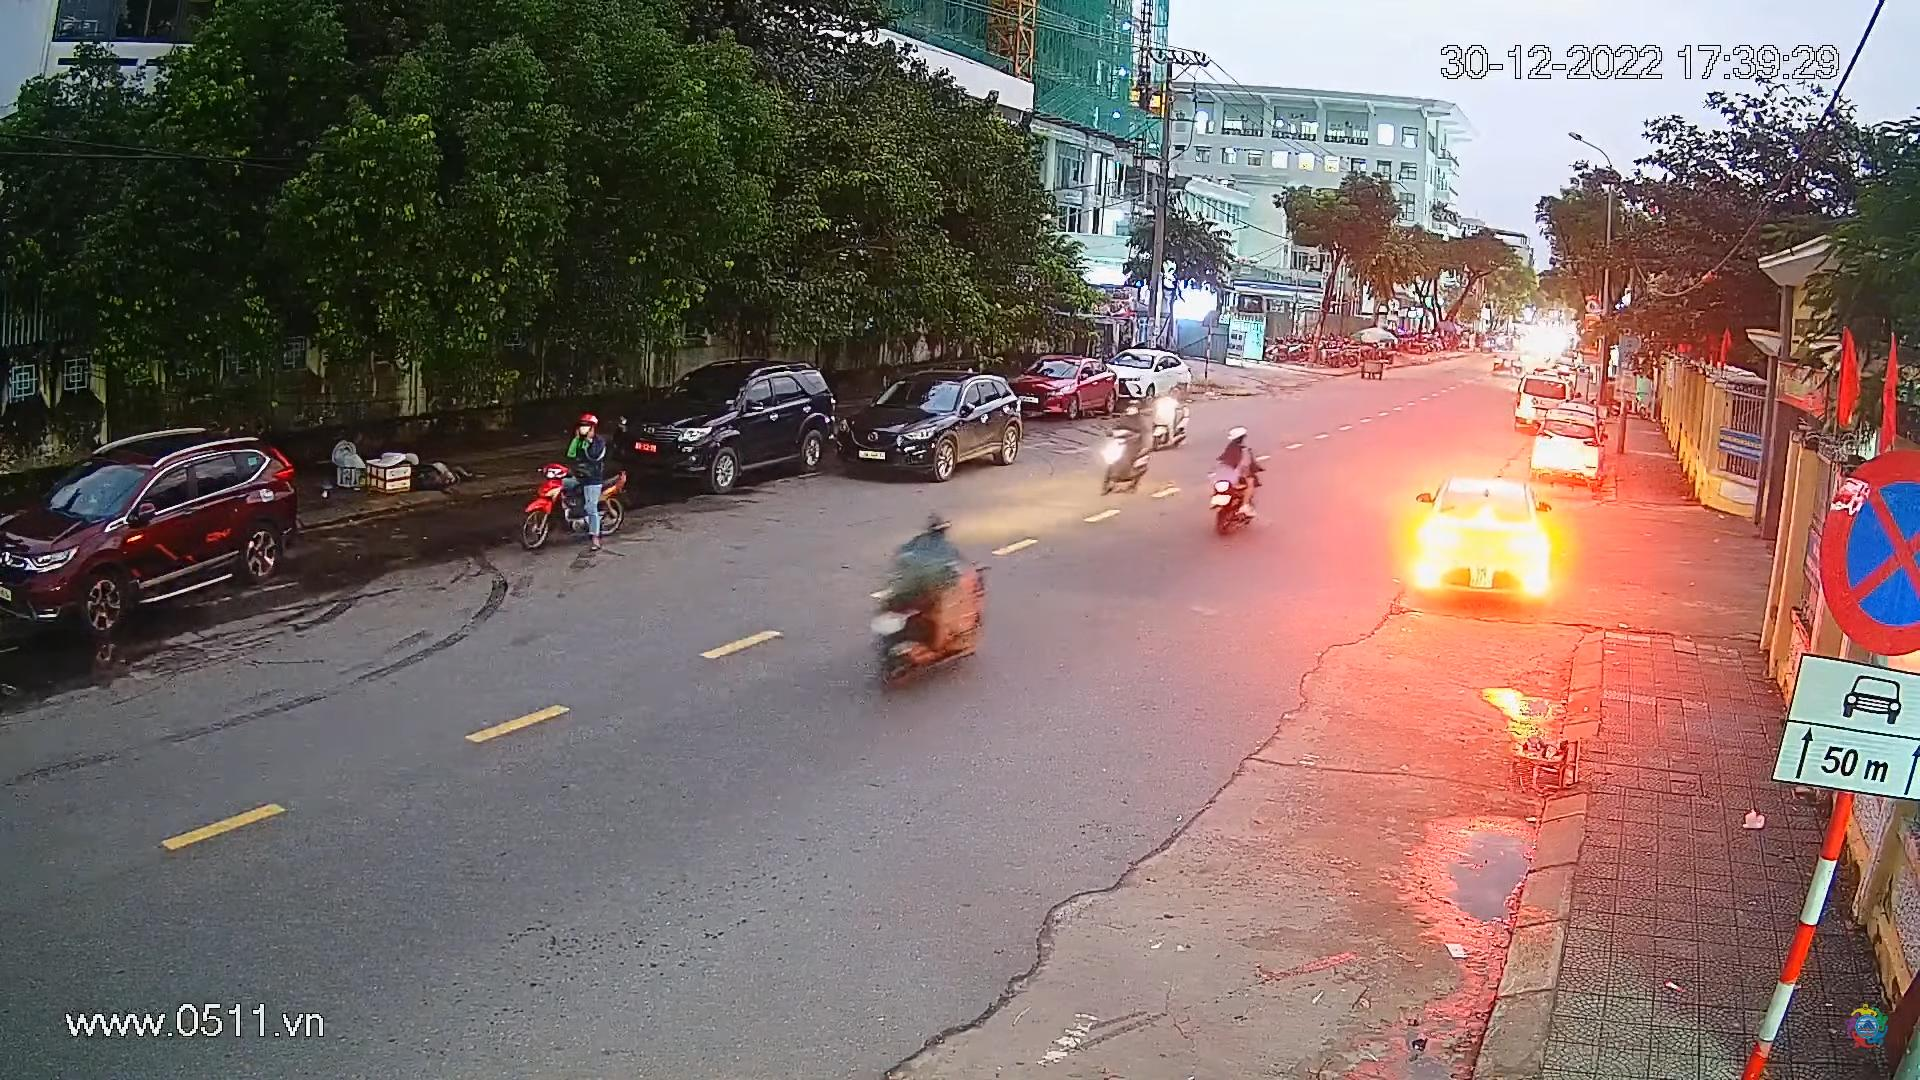car: (0, 415, 305, 638), (616, 359, 839, 491), (1403, 462, 1556, 621), (840, 367, 1033, 480), (1013, 348, 1118, 426), (1104, 344, 1197, 415), (1527, 411, 1606, 480), (1510, 372, 1577, 431), (1485, 340, 1526, 384)
motorcycle: (857, 504, 1000, 695), (513, 406, 636, 572), (1196, 413, 1271, 541), (1085, 401, 1164, 502)
